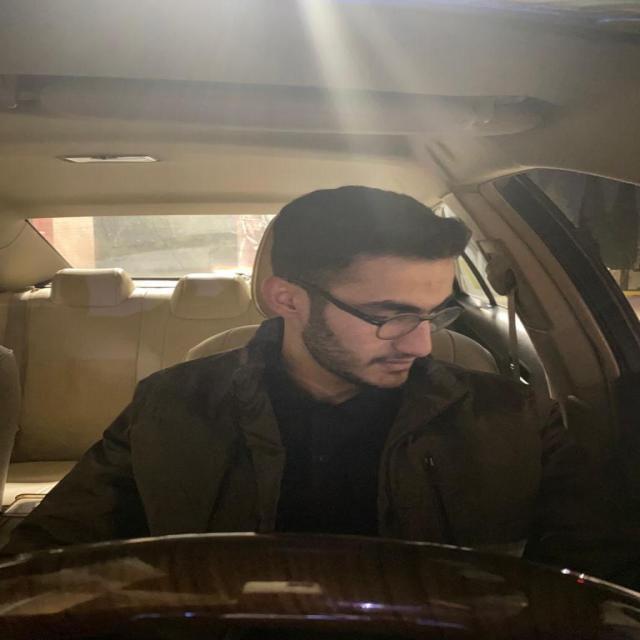drowsy: (271, 189, 465, 397)
